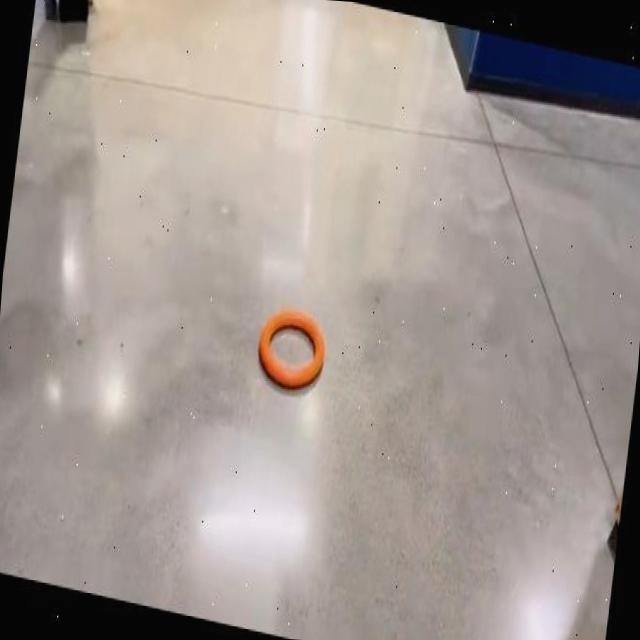note: (258, 307, 325, 388)
